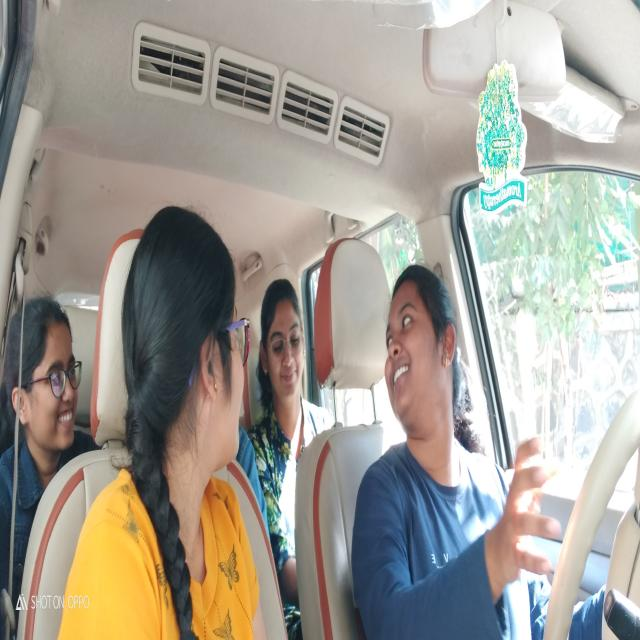LeftRight: (383, 252, 464, 444)
person: (119, 196, 250, 471), (6, 296, 87, 458), (258, 272, 309, 404)
talking: (388, 360, 414, 395)
